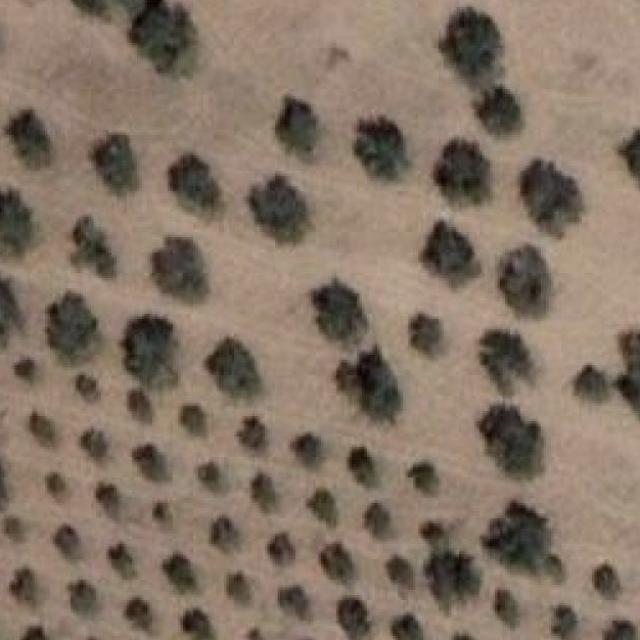Tree: (485, 501, 561, 581), (336, 345, 402, 424), (477, 406, 544, 479), (520, 159, 582, 237), (442, 9, 506, 82), (135, 2, 197, 77), (249, 174, 311, 243), (421, 220, 482, 287), (125, 314, 179, 388), (48, 290, 103, 362), (500, 245, 554, 318), (152, 237, 210, 304), (433, 137, 491, 203), (311, 278, 367, 346), (479, 329, 534, 396), (171, 153, 225, 218), (427, 549, 482, 611), (357, 118, 411, 181), (206, 337, 262, 397), (91, 135, 138, 194), (7, 109, 52, 168), (70, 217, 112, 279), (278, 97, 319, 159), (474, 87, 524, 135), (614, 329, 640, 418), (0, 190, 32, 257), (70, 0, 156, 22), (0, 267, 20, 346), (321, 542, 356, 585), (339, 597, 372, 640), (137, 444, 171, 484), (617, 129, 640, 188), (163, 551, 196, 592), (411, 314, 442, 356), (575, 365, 606, 403), (212, 516, 242, 553), (408, 462, 440, 496), (71, 580, 101, 616), (350, 447, 376, 488), (253, 472, 278, 514), (308, 491, 336, 528), (290, 435, 321, 468), (365, 503, 392, 540), (96, 482, 122, 520), (595, 564, 622, 600), (109, 542, 135, 579), (183, 610, 214, 640), (551, 605, 577, 640), (495, 590, 518, 629), (267, 534, 295, 566), (81, 430, 109, 462), (237, 419, 264, 452), (393, 612, 424, 640), (385, 557, 412, 589), (125, 598, 150, 631), (227, 573, 252, 605), (12, 570, 37, 602), (55, 527, 79, 560), (30, 411, 53, 445), (280, 588, 306, 618), (198, 462, 223, 493), (181, 406, 205, 437), (605, 620, 638, 640), (129, 391, 149, 423), (421, 523, 447, 546), (79, 375, 98, 403), (14, 358, 36, 381), (48, 472, 69, 495), (21, 625, 50, 640), (0, 447, 7, 509), (152, 501, 169, 524)
